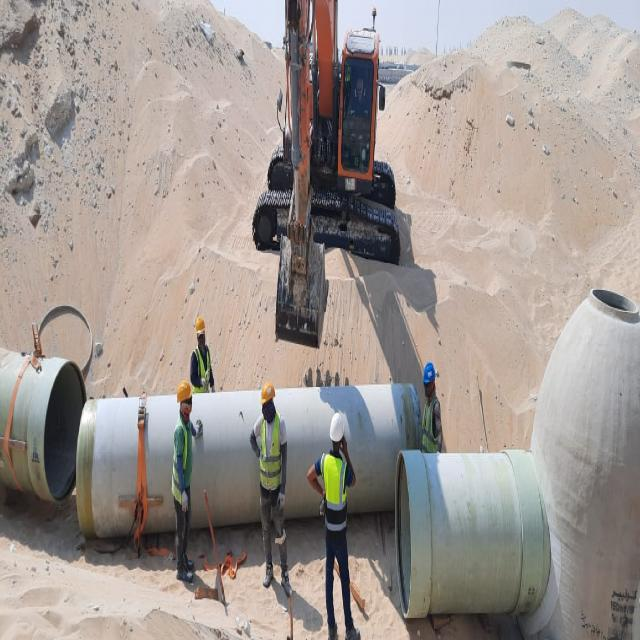Excavator: (250, 2, 400, 346)
